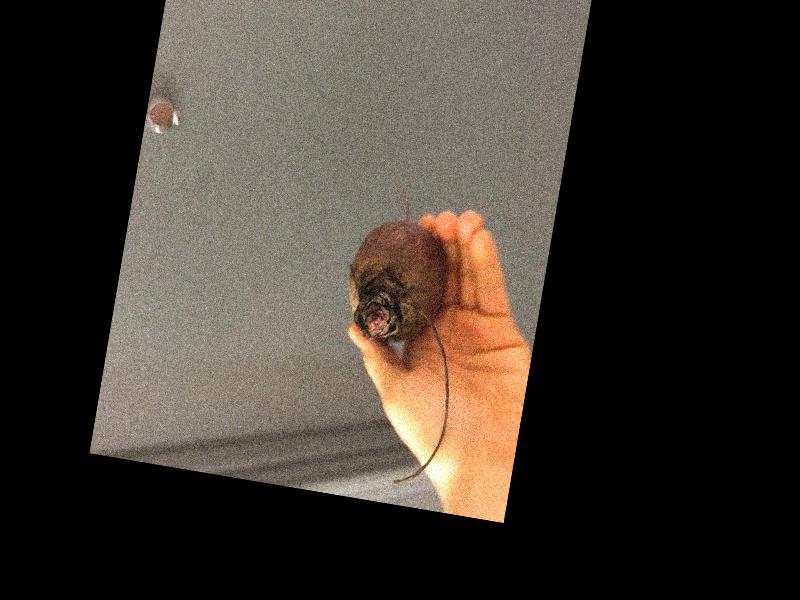Beet: (317, 180, 485, 488)
